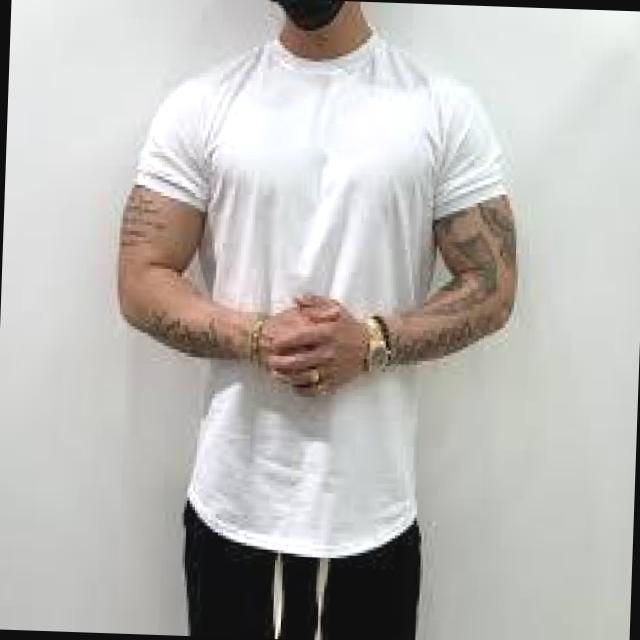Tshirt: (120, 19, 516, 558)
